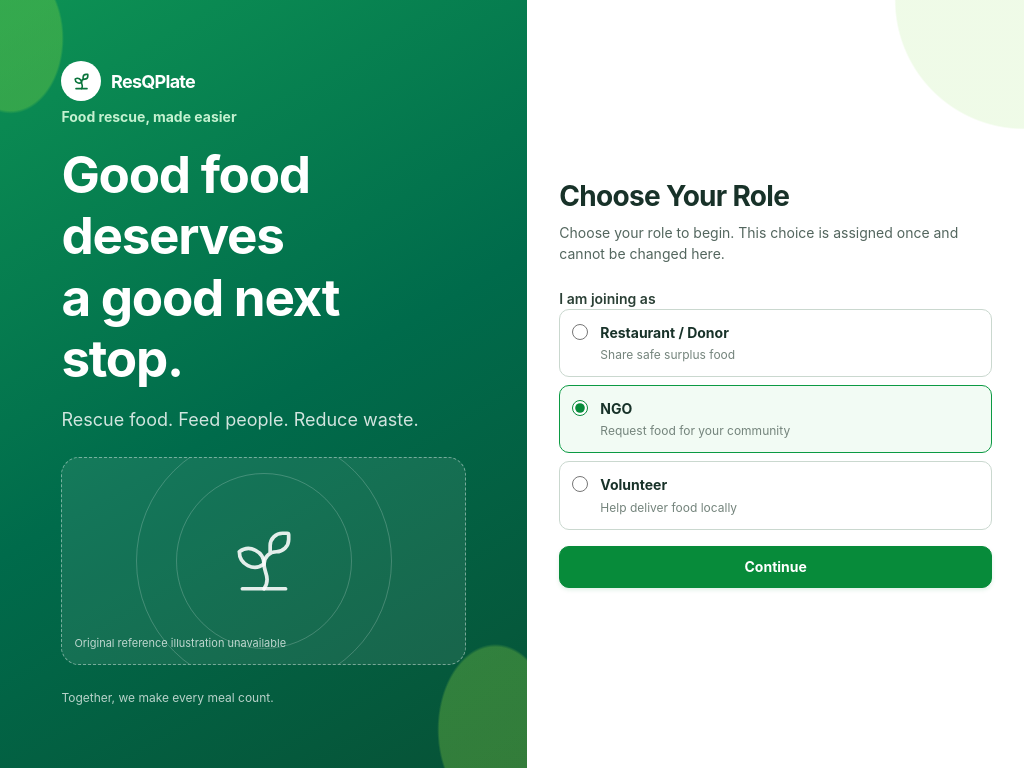
Test case: missing application profile recovery › shows role-assignment errors and keeps the user on role selection
Click the button "Continue".
click(776, 567)  # box top-left (559, 546), bottom-right (992, 588)
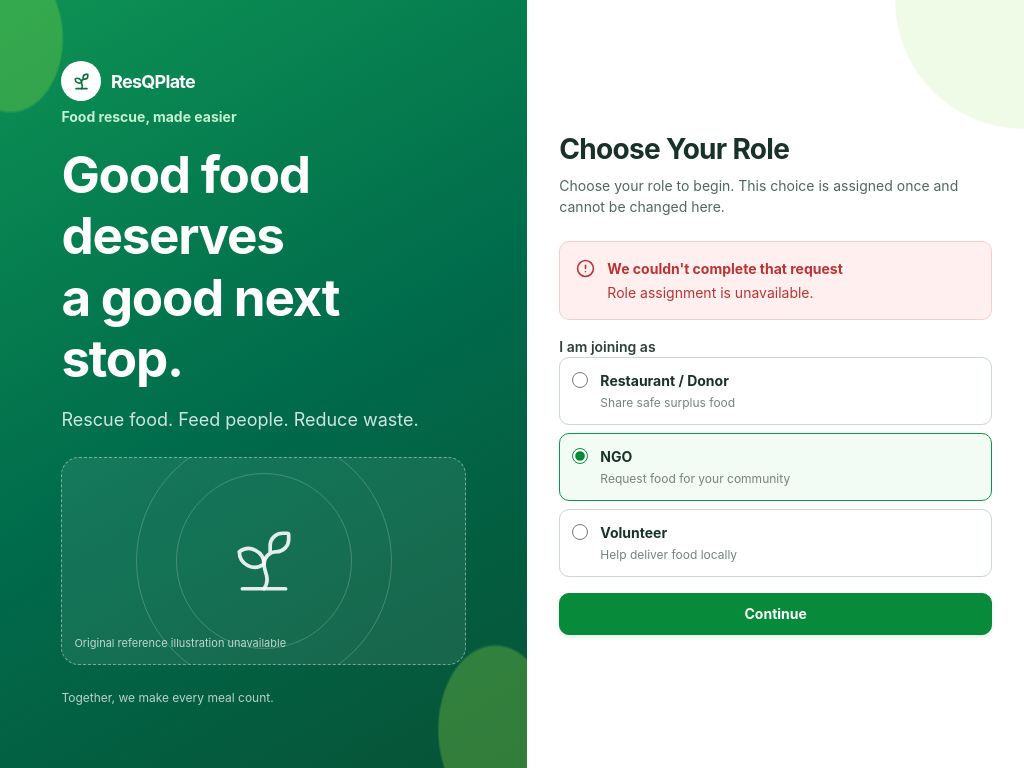
Check: the heading "Choose Your Role" is shown, box top-left (559, 132), bottom-right (789, 166)
Check: the text "Role assignment is unavailable." is shown, box top-left (607, 284), bottom-right (814, 300)
